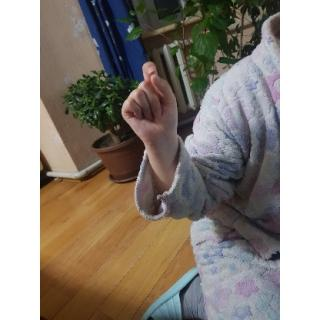FAA: (120, 57, 182, 145)
